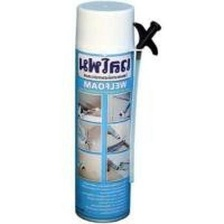aerosol_cans: (67, 0, 140, 222)
